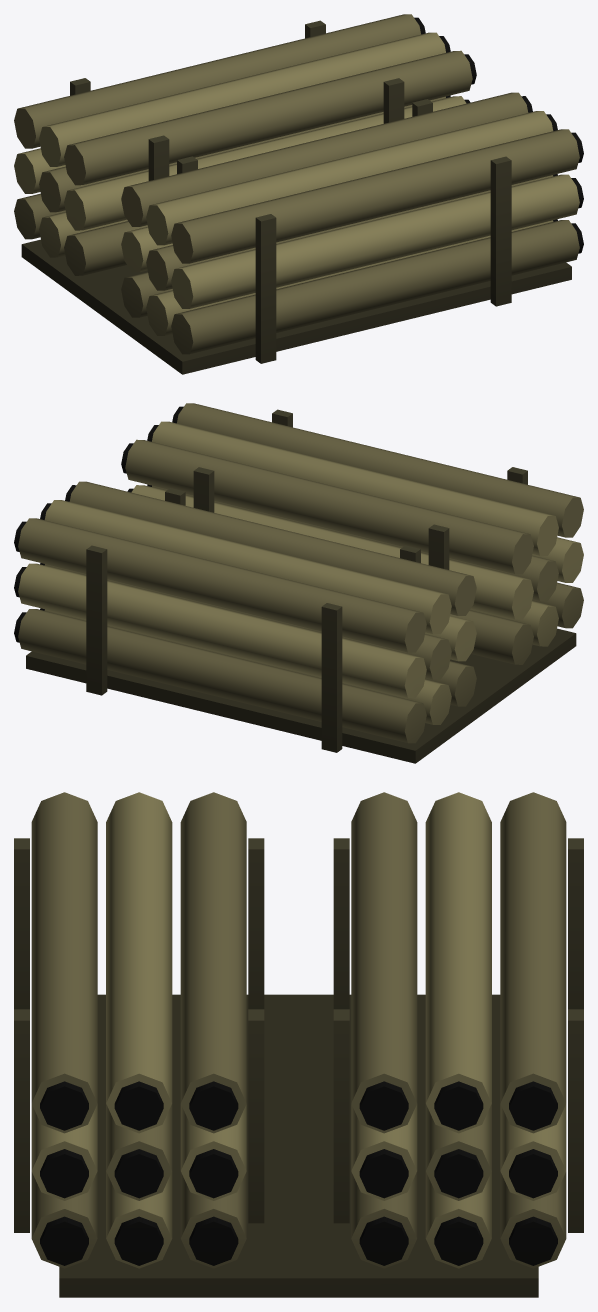
The model's file is m_arty_f716cd92.glb.
3 views of the same model, one above another, from view 1: azimuth 30°, elevation 25°; view 2: azimuth 150°, elevation 25°; view 3: azimuth 270°, elevation 25° (orthographic). The views are drawn at different scales.
Parts seen in each view (by area): view 1: mesh; view 2: mesh; view 3: mesh.
Boxes of the visible parts, x1,y1,x2,y2 form: mesh: (14,14,583,374); mesh: (14,403,583,763); mesh: (14,792,583,1297).
Bounding box in the file's own units: 12.78 × 4.62 × 10.7.
